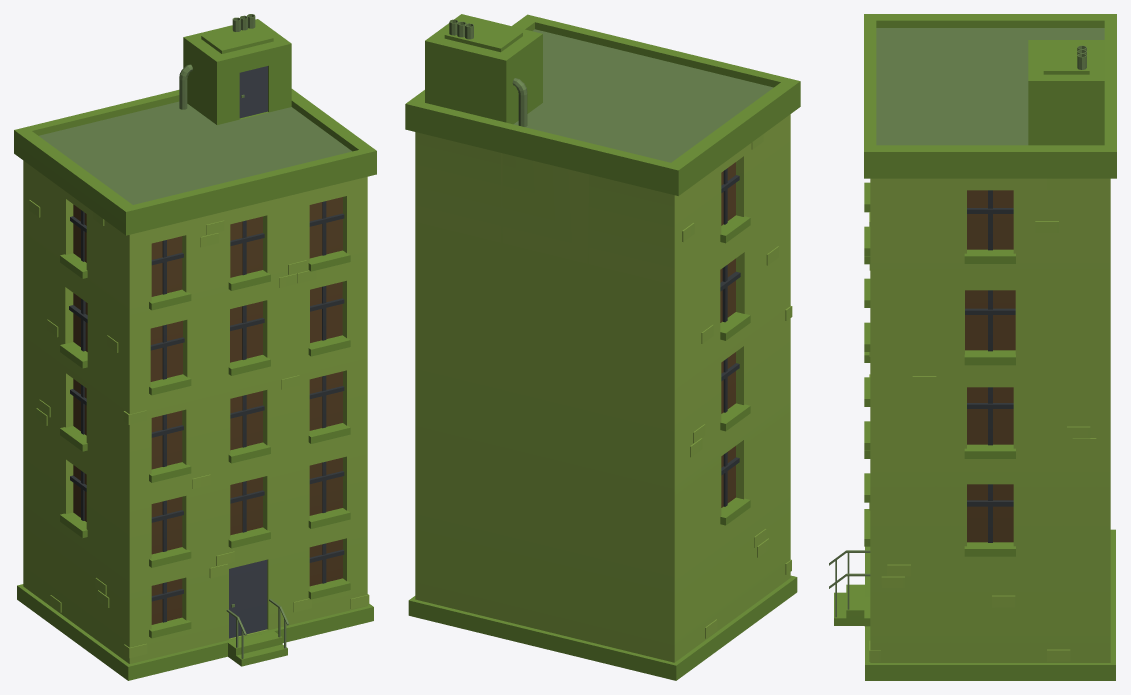
File: House_06.fbx
The picture shows the model from 3 angles, left to right: view 1: azimuth 30°, elevation 25°; view 2: azimuth 150°, elevation 25°; view 3: azimuth 270°, elevation 25°; orthographic projection. The views are drawn at different scales.
Parts seen in each view (by area): view 1: House_06; view 2: House_06; view 3: House_06.
Boxes of the visible parts, <box> form: House_06: <box>14,14,376,680</box>; House_06: <box>405,14,800,680</box>; House_06: <box>829,14,1116,680</box>.
Size of the model in its own units: 7.14 by 14.74 by 6.29.
